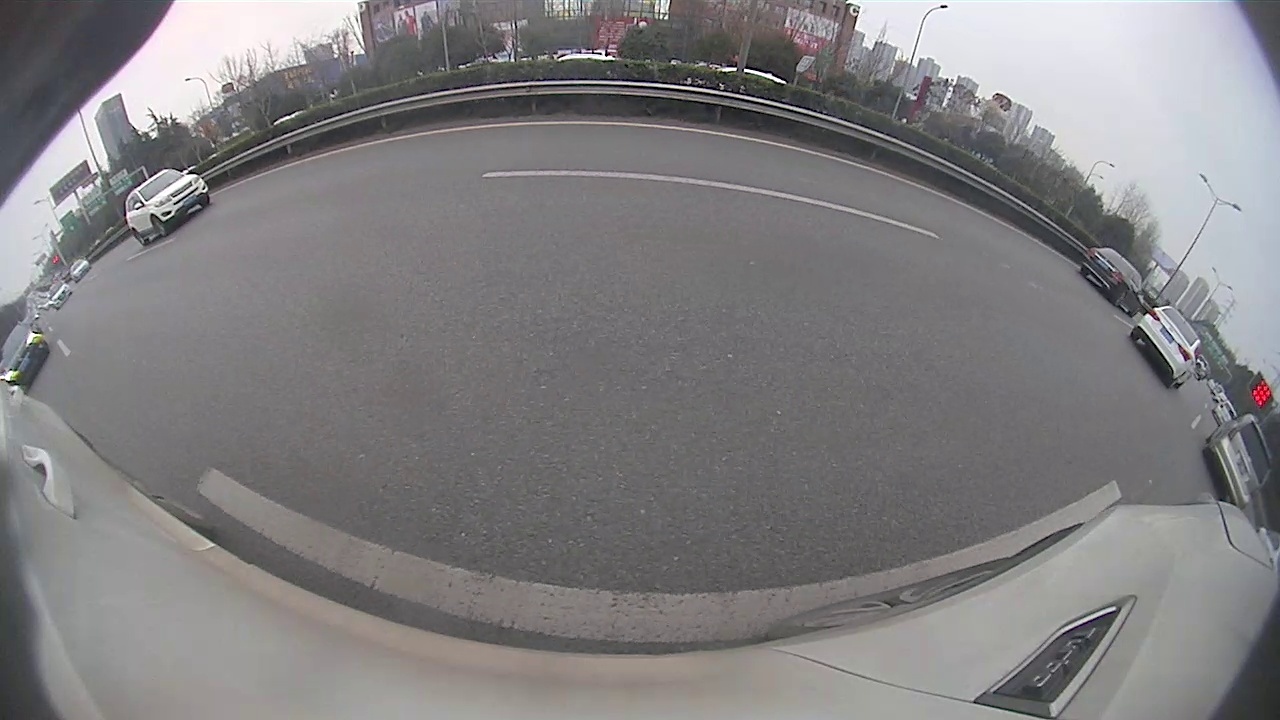car: (125, 165, 212, 246), (1207, 411, 1278, 509), (1134, 296, 1202, 392), (1078, 245, 1148, 316), (2, 326, 50, 395)
front: (151, 214, 170, 238)
rear: (1112, 289, 1129, 306)
